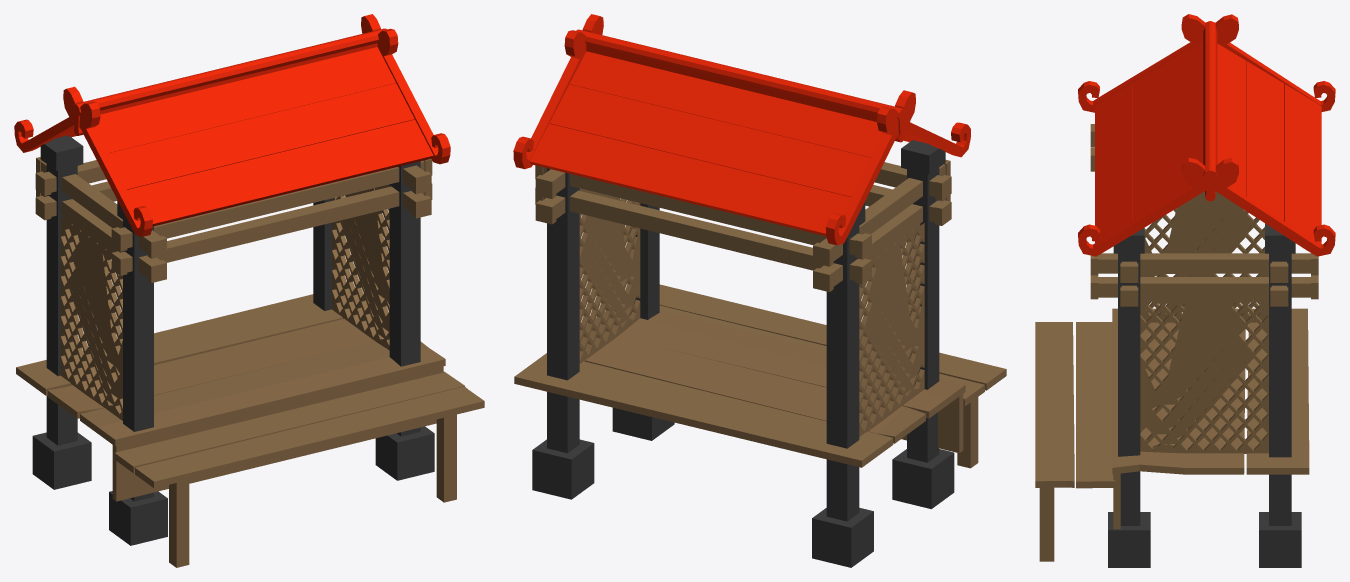
File: Stall_2.fbx
3 renders of one model, left to right at view 1: azimuth 30°, elevation 25°; view 2: azimuth 150°, elevation 25°; view 3: azimuth 270°, elevation 25°, orthographic. The views are drawn at different scales.
Parts seen in each view (by area): view 1: Stall_2; view 2: Stall_2; view 3: Stall_2.
Part boxes in pixels (x1=…): Stall_2: x1=14, y1=14, x2=484, y2=567; Stall_2: x1=513, y1=14, x2=1006, y2=567; Stall_2: x1=1035, y1=14, x2=1335, y2=567.
Size of the model in its own units: 184 by 218 by 146.
